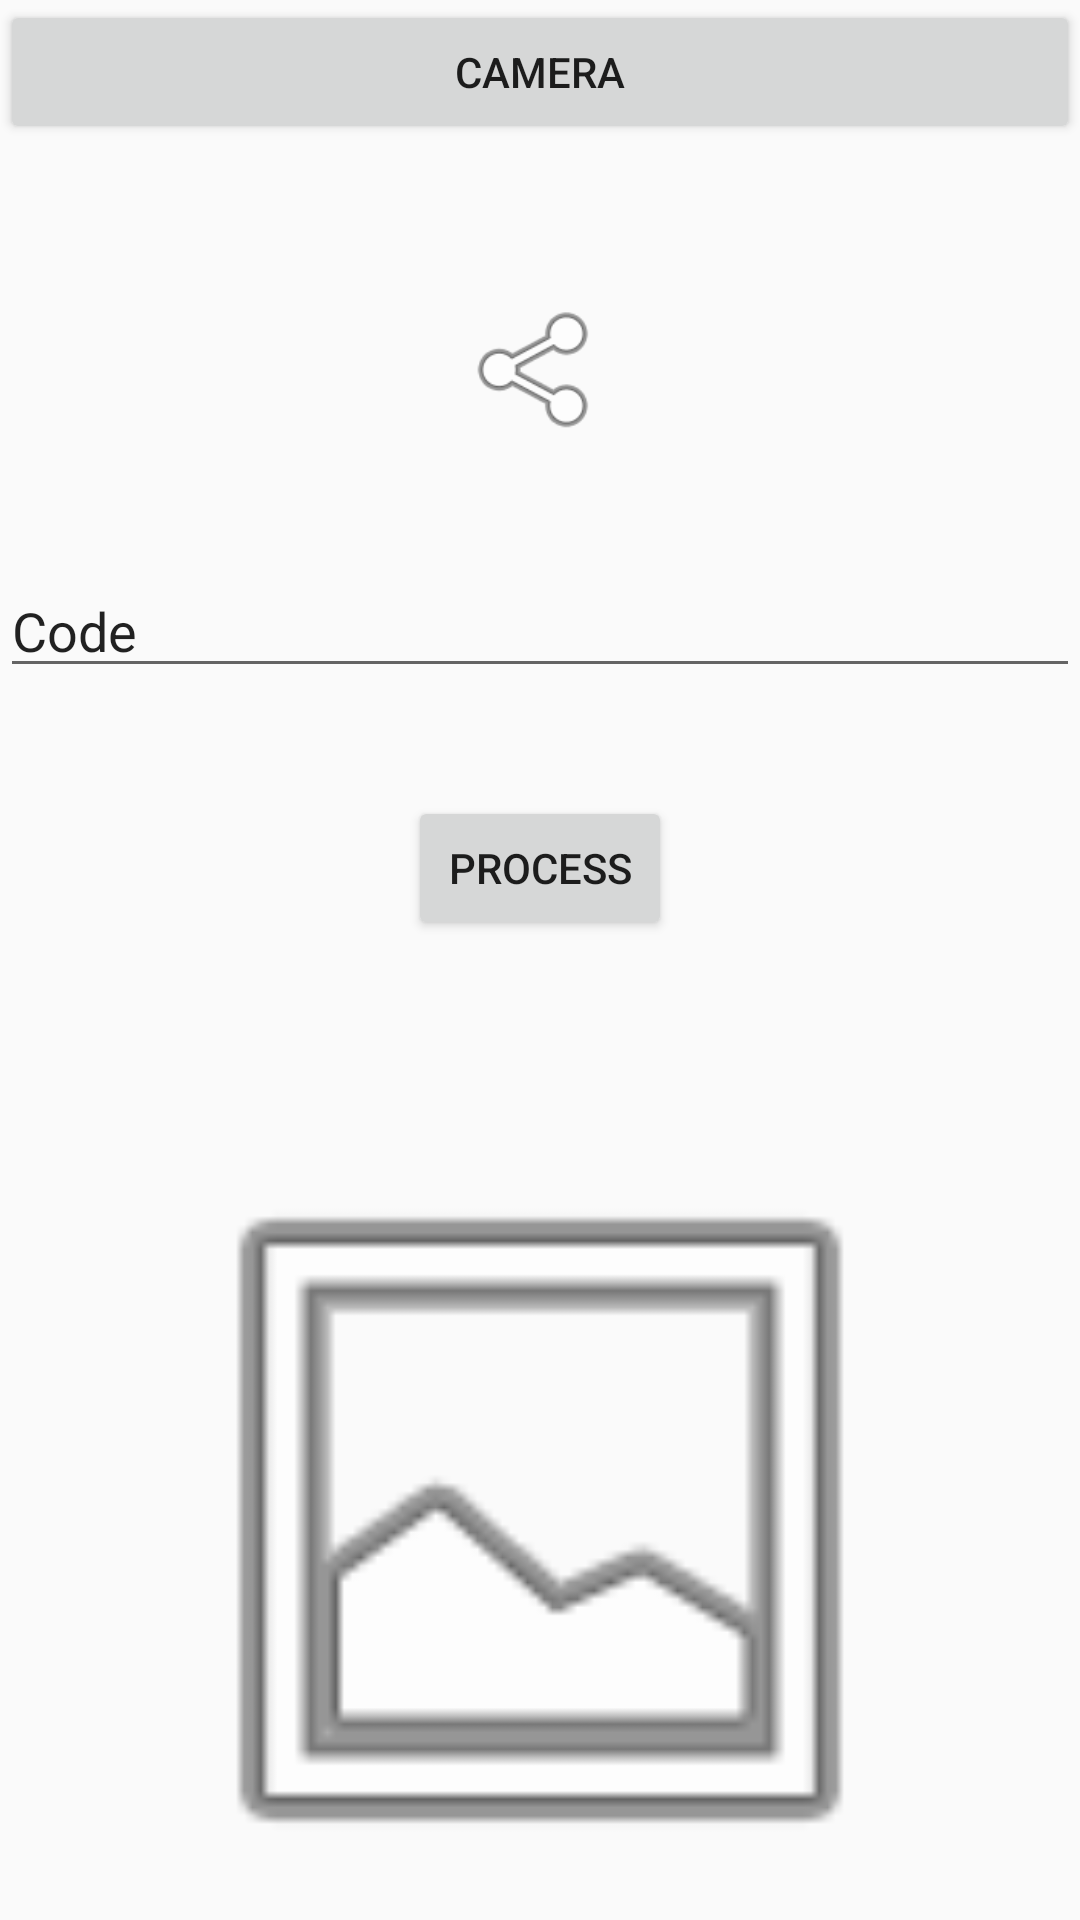

Named icons in this screenshot (1080 x 1920) and their centers, (x,y):
share: (533,369)
